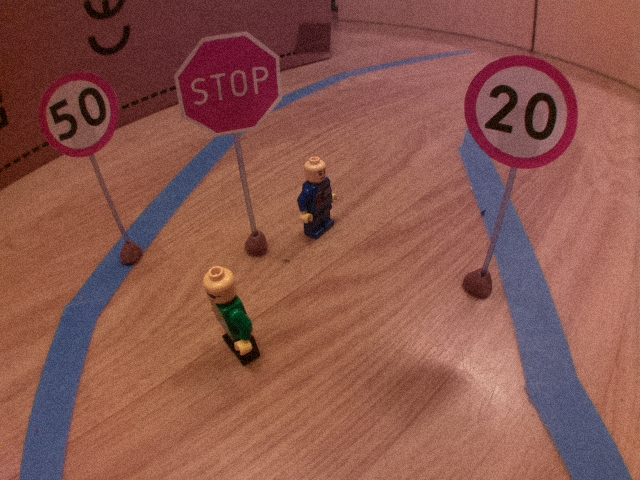LEGO_person: (200, 261, 269, 372), (295, 150, 340, 242)
ogr_20: (460, 50, 583, 172)
ogr_50: (35, 69, 122, 163)
stop: (170, 28, 287, 144)
